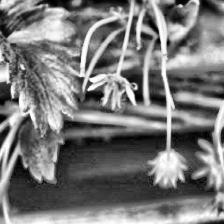Gray Mold: (86, 69, 140, 114)
